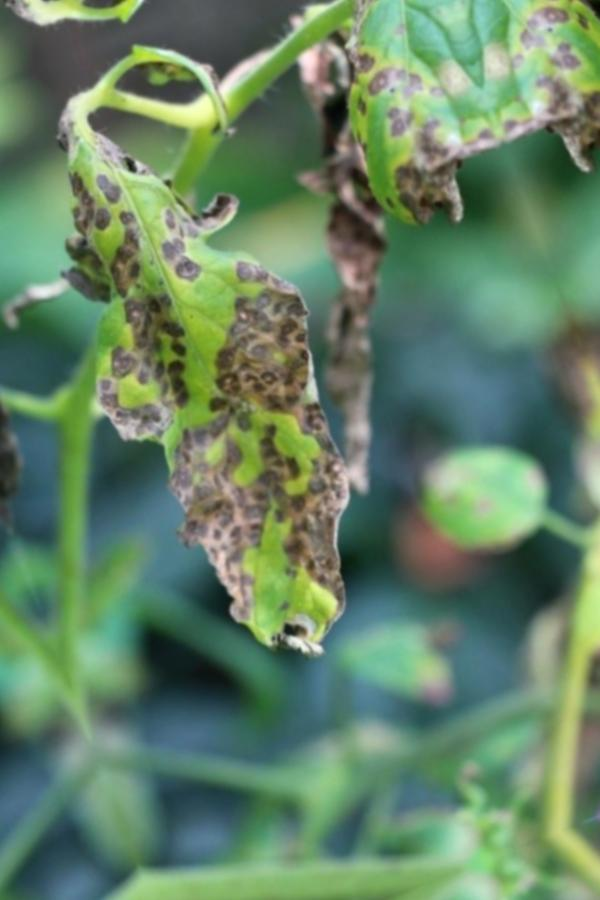Tomato leaf bacterial spot: (3, 63, 443, 707), (276, 0, 524, 258)
